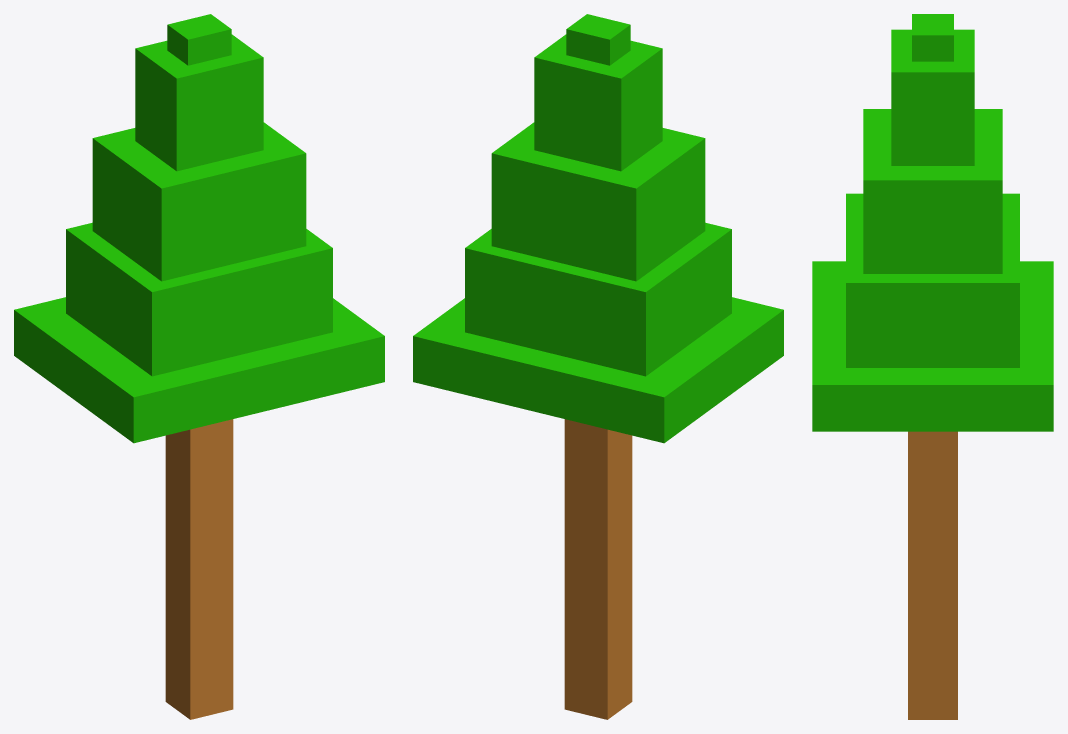
File: Tree1.fbx
3 views of the same model, side by side, from view 1: azimuth 30°, elevation 25°; view 2: azimuth 150°, elevation 25°; view 3: azimuth 270°, elevation 25° (orthographic).
Parts seen in each view (by area): view 1: Cube.002, Cube.003, Cube.004, Cube.001, Cube.005, Cube.006; view 2: Cube.002, Cube.003, Cube.004, Cube.001, Cube.005, Cube.006; view 3: Cube.003, Cube.002, Cube.004, Cube.001, Cube.005, Cube.006.
Part boxes in pixels (x1,y1,x2,y2): Cube.002: (66, 222, 332, 376); Cube.003: (14, 297, 384, 443); Cube.004: (92, 122, 306, 281); Cube.001: (165, 419, 233, 719); Cube.005: (135, 34, 263, 171); Cube.006: (167, 14, 231, 65); Cube.002: (465, 222, 731, 376); Cube.003: (413, 297, 783, 443); Cube.004: (491, 122, 705, 281); Cube.001: (564, 419, 632, 719); Cube.005: (534, 34, 662, 171); Cube.006: (566, 14, 630, 65); Cube.003: (812, 261, 1053, 431); Cube.002: (846, 193, 1019, 367); Cube.004: (863, 109, 1002, 273); Cube.001: (908, 431, 957, 719); Cube.005: (891, 29, 974, 165); Cube.006: (912, 14, 953, 61).
Size of the model in its own units: 616 by 1590 by 508.
